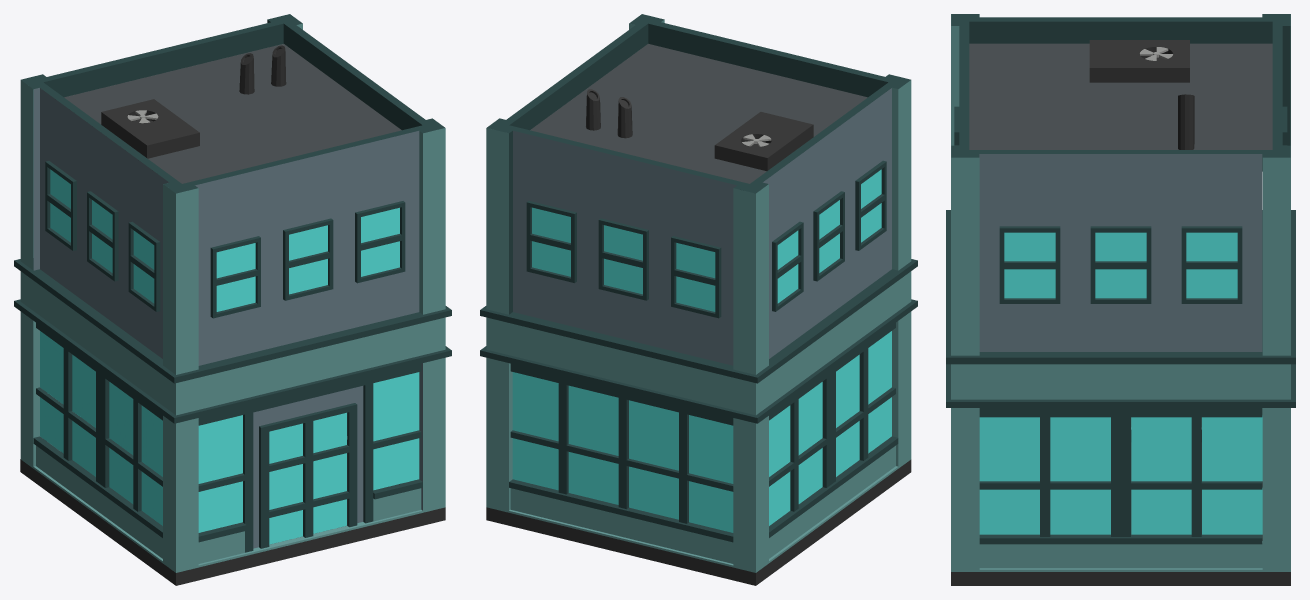
Rendered from Building_2.glb.
The picture shows the model from 3 angles, left to right: view 1: azimuth 30°, elevation 25°; view 2: azimuth 150°, elevation 25°; view 3: azimuth 270°, elevation 25°; orthographic projection. The views are drawn at different scales.
Parts seen in each view (by area): view 1: Building 2; view 2: Building 2; view 3: Building 2.
Part boxes in pixels (left/top/right/bottom): Building 2: left=14, top=14, right=451, bottom=585; Building 2: left=480, top=14, right=917, bottom=585; Building 2: left=946, top=14, right=1295, bottom=585.
Size of the model in its own units: 5.95 by 8.37 by 5.95.
